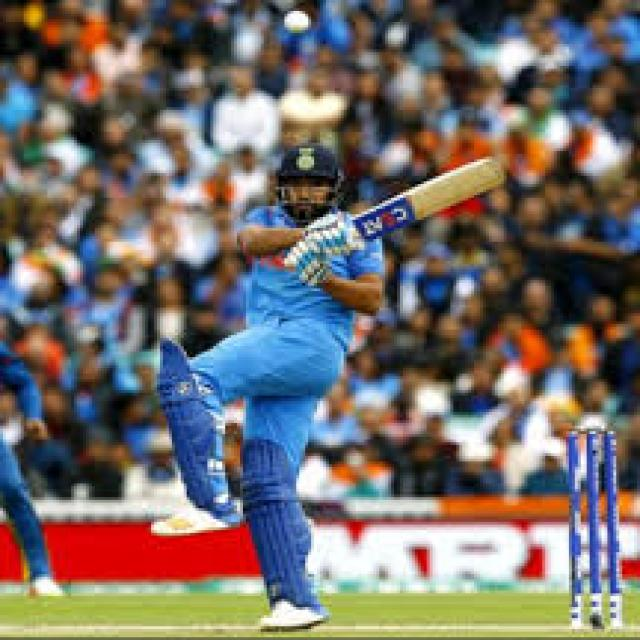toe: (469, 152, 512, 198)
